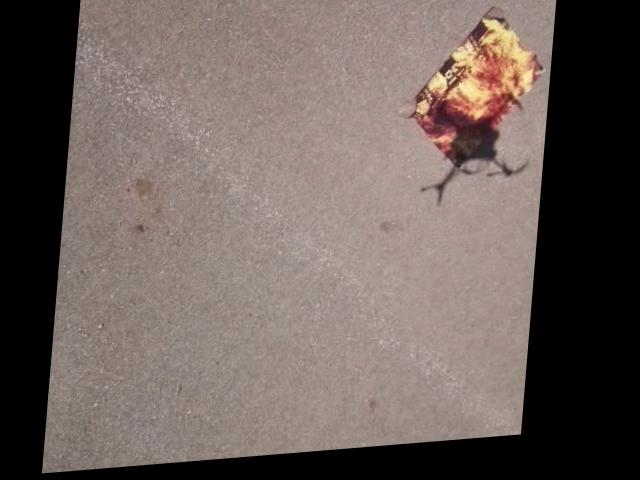fire-poster: (396, 9, 552, 201)
